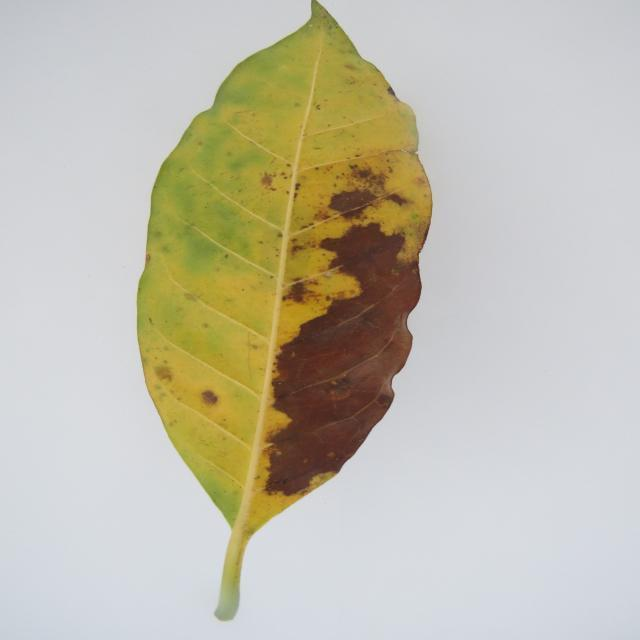DeficienciaNutricional-Potasio: (138, 2, 432, 620)
